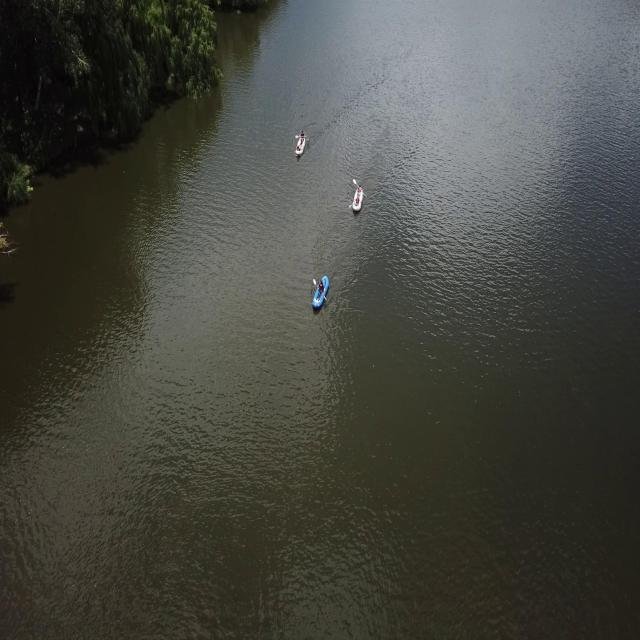kayak: (310, 275, 332, 313), (349, 180, 367, 222), (294, 128, 309, 161)
